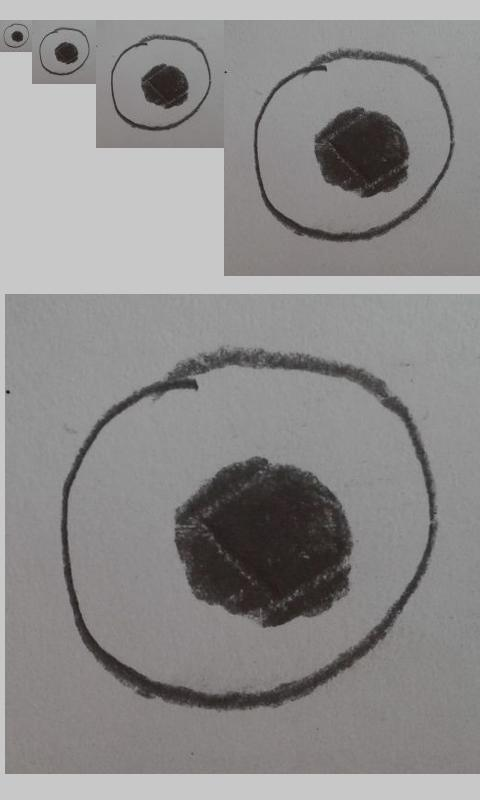radio_button: (59, 346, 440, 709), (253, 50, 456, 242), (110, 34, 212, 131), (39, 27, 90, 76), (3, 23, 30, 48)
